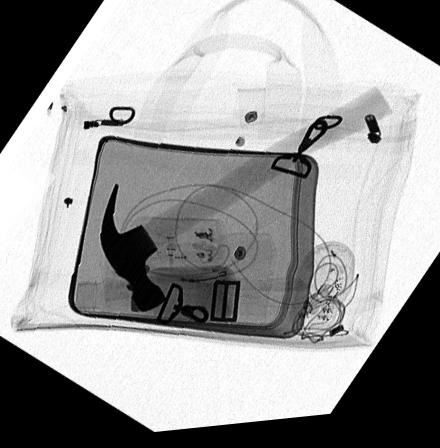Hammer: (97, 94, 393, 315)
